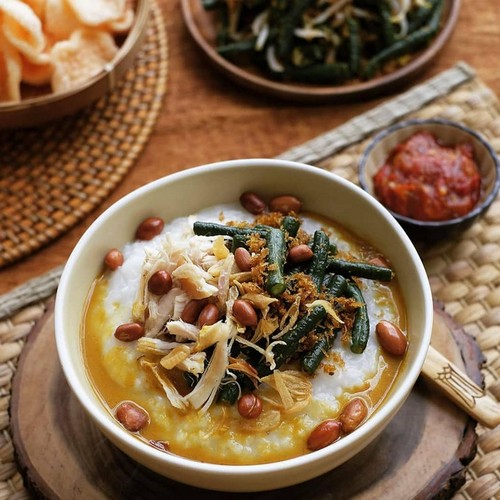bubur mengguh: (105, 197, 391, 439)
